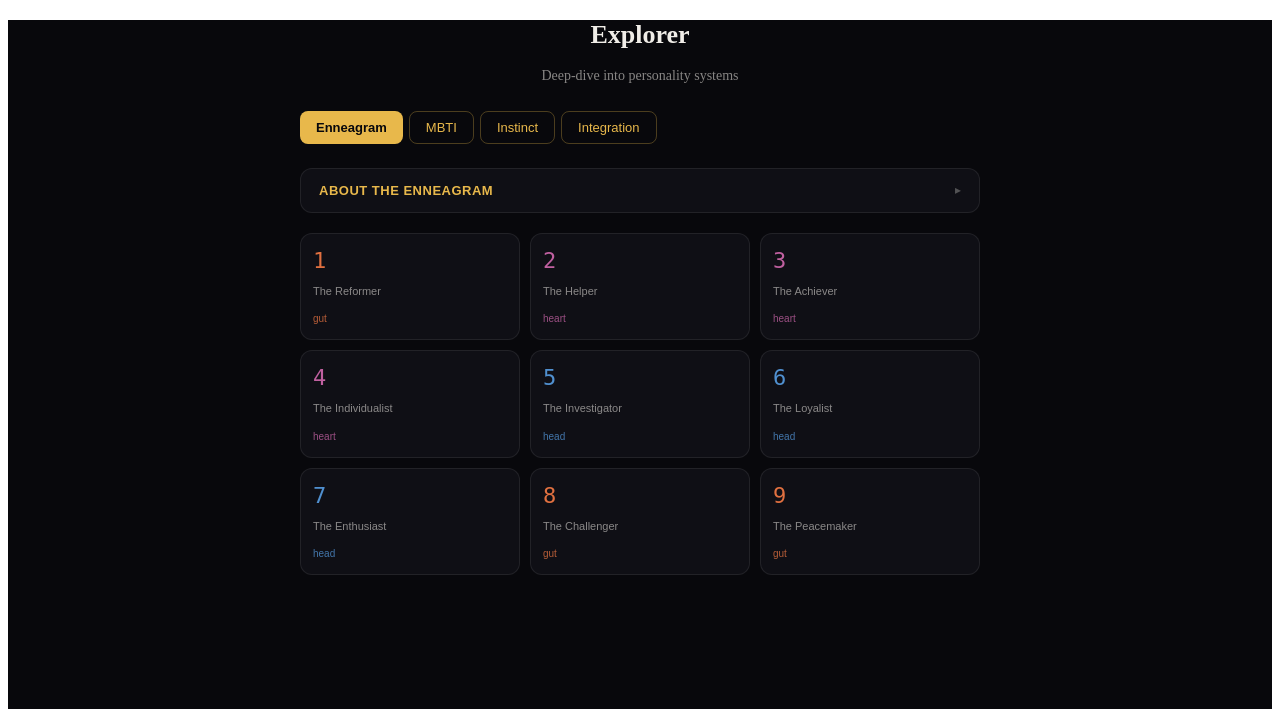
Test case: Explorer — growth direction as falsification › states the scarcity model and what the defense predicts, not an instruction
The image size is (1280, 709).
Click the button "3 The Achiever heart".
click(870, 287)  # box [760, 233, 980, 340]
(page scrolled)
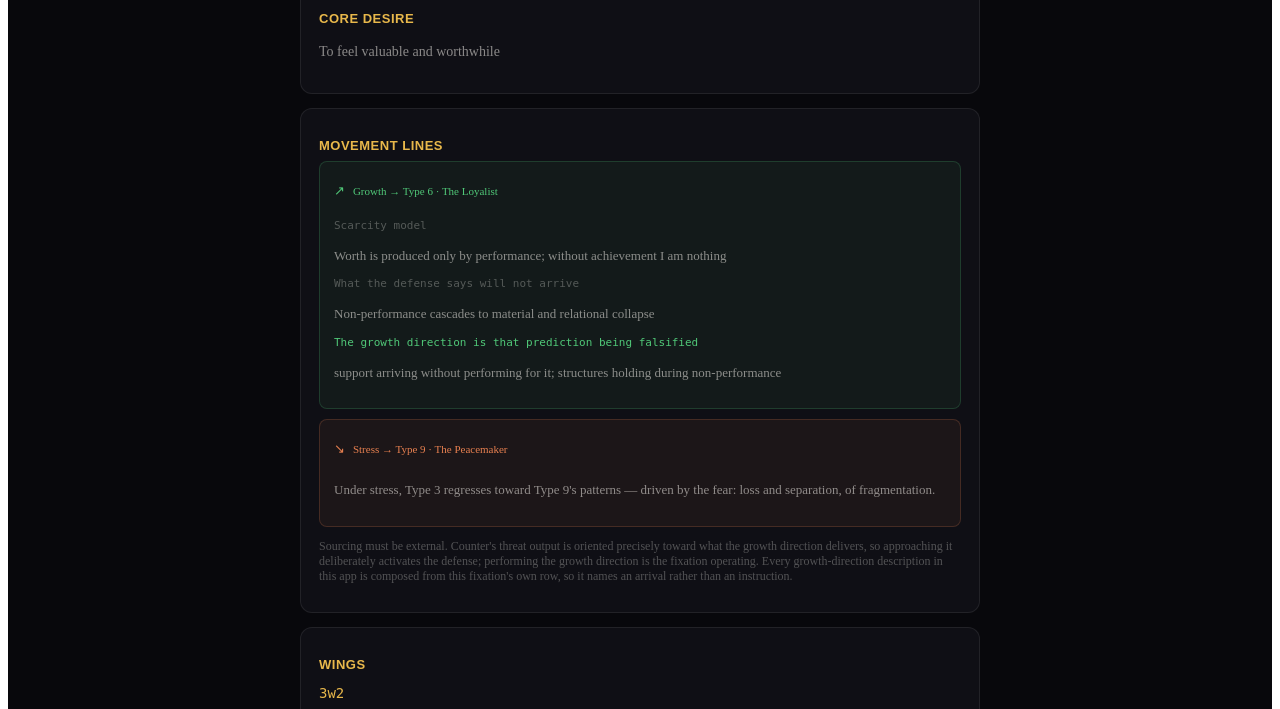
Expected: the element with test id "growth-direction" shows "Worth is produced only by performance", [334, 248, 726, 263]
Expected: the element with test id "growth-direction" shows "Non-performance cascades to material and relational collapse", [334, 306, 654, 321]
Expected: the element with test id "growth-direction" shows "support arriving without performing for it", [334, 365, 781, 380]
